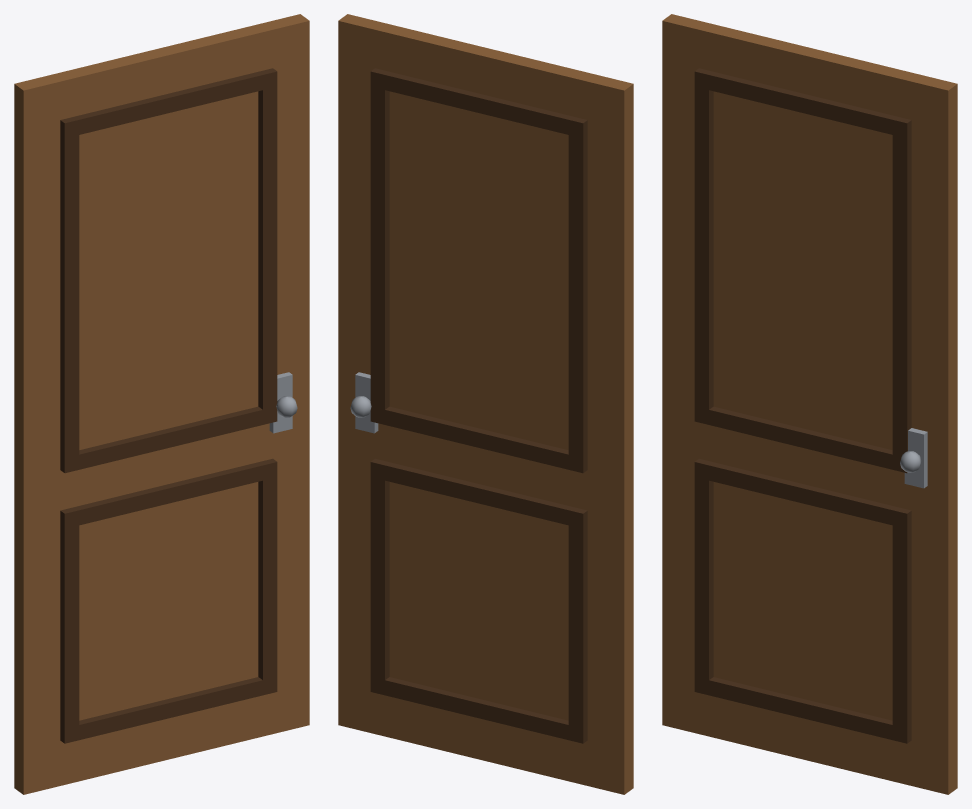
The model's file is SM_Door_slifer_inner_90x210.fbx.
3 renders of one model, left to right at view 1: azimuth 30°, elevation 25°; view 2: azimuth 150°, elevation 25°; view 3: azimuth 330°, elevation 25°, orthographic.
Parts seen in each view (by area): view 1: SM_Door_slifer_inner_90x210; view 2: SM_Door_slifer_inner_90x210; view 3: SM_Door_slifer_inner_90x210.
Part boxes in pixels (x1,y1,x2,y2): SM_Door_slifer_inner_90x210: [14, 14, 309, 794]; SM_Door_slifer_inner_90x210: [338, 14, 633, 794]; SM_Door_slifer_inner_90x210: [662, 14, 957, 794].
Bounding box in the file's own units: 0.888 × 2.09 × 0.19.
